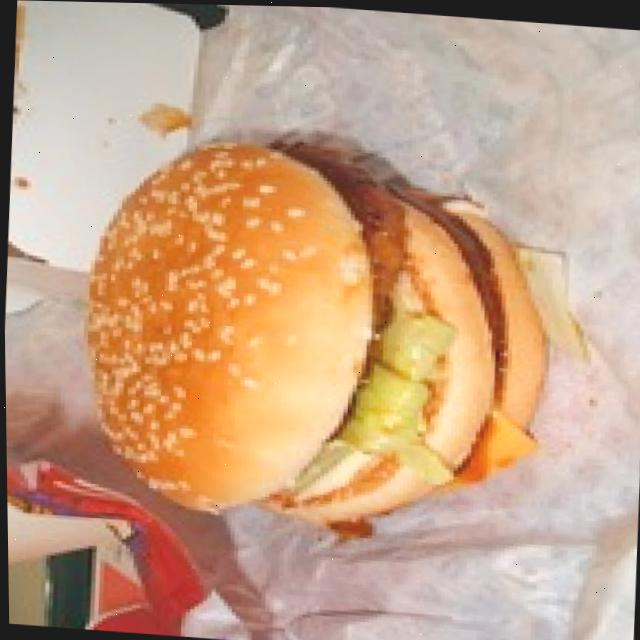汉堡快餐: (45, 118, 564, 553)
